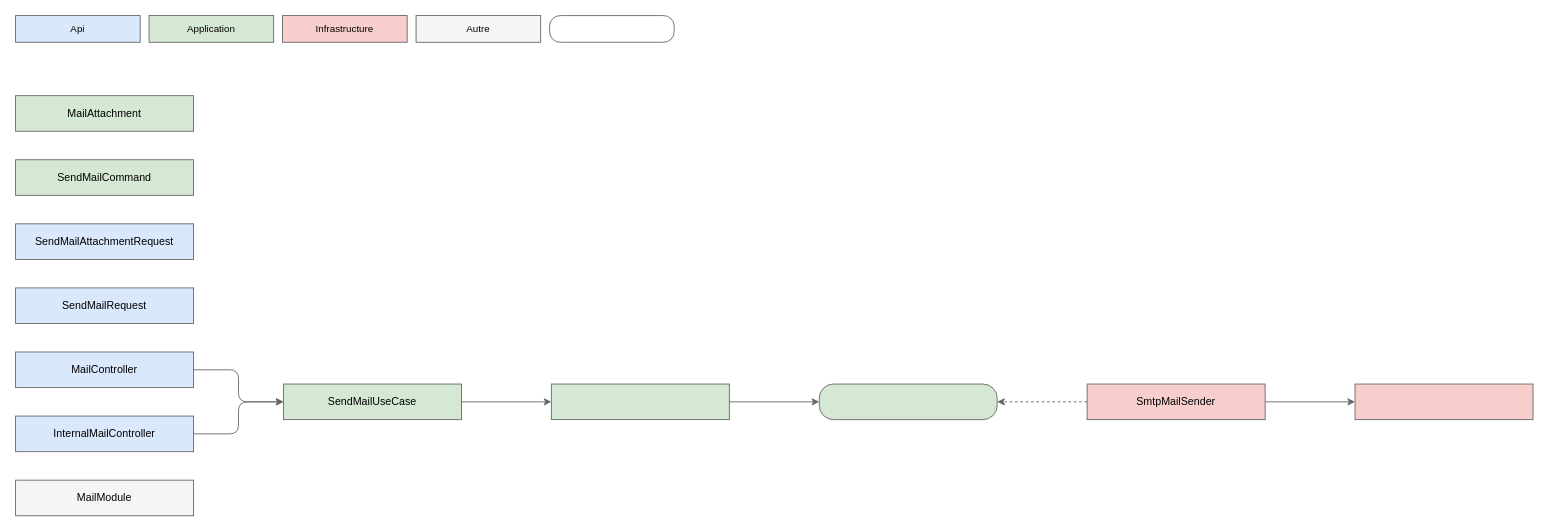
Image size: 1549x531. Some labels were removed from this diagram. Here are the shapes that lost their labels. From the top down, the centre of each, then its label:
At point (611, 28): "Port (interface)".
At point (639, 401): "MailService".
At point (907, 401): "IMailSender".
At point (1443, 401): "SmtpMailOptions".
